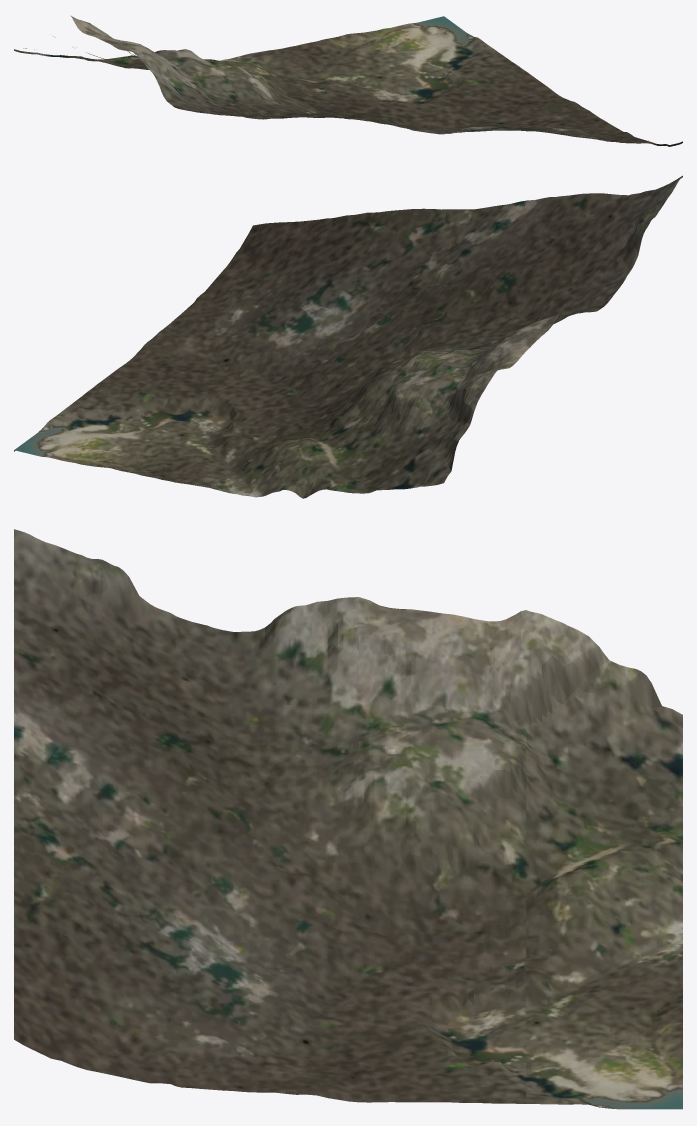
The picture shows the model from 3 angles, top to bottom: view 1: azimuth 30°, elevation 25°; view 2: azimuth 150°, elevation 25°; view 3: azimuth 270°, elevation 25°; orthographic projection. The views are drawn at different scales.
Bounding box in the file's own units: 250 × 115 × 241.
1 material, 1 textured.
